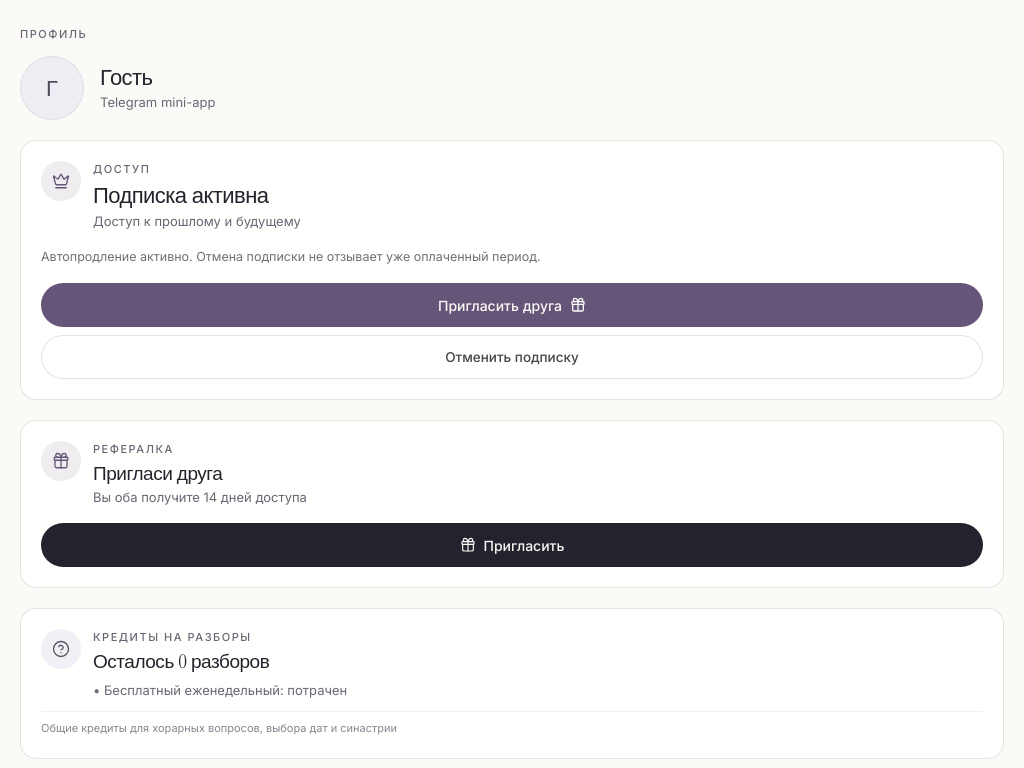
Scenario: ProfileScreen cancel refresh contract › failed cancel keeps flags and never re-reads
Click the button "Отменить подписку" at (512, 357), box [41, 335, 983, 379]
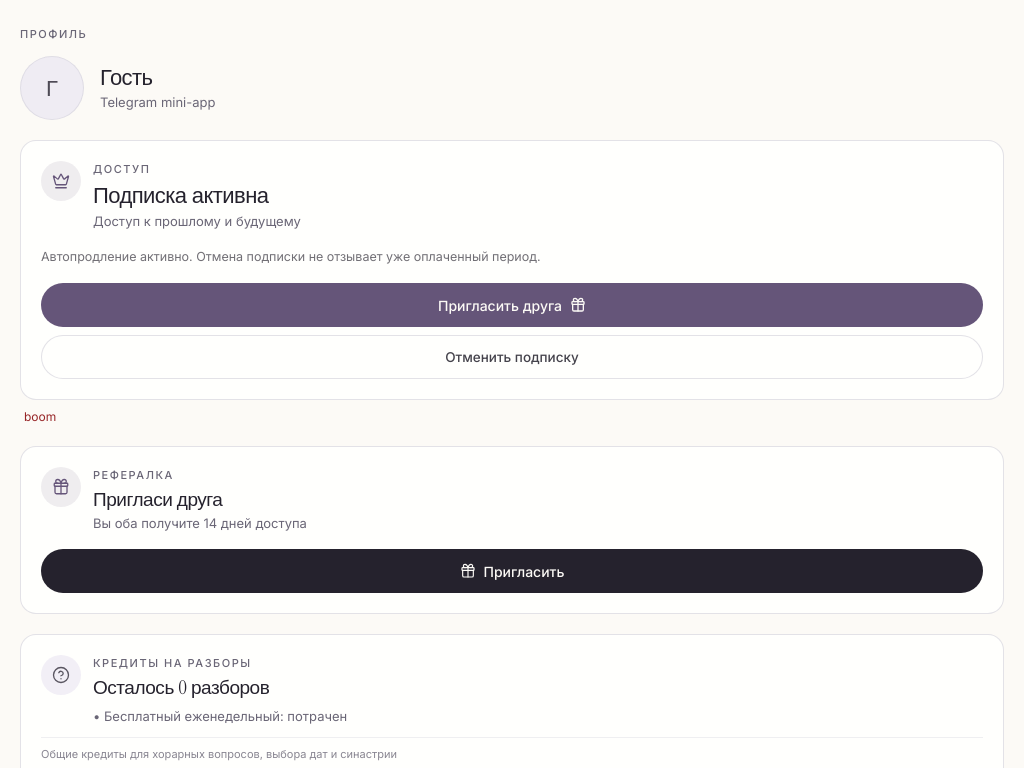
Expected: the message "boom" is shown, [24, 409, 56, 424]
